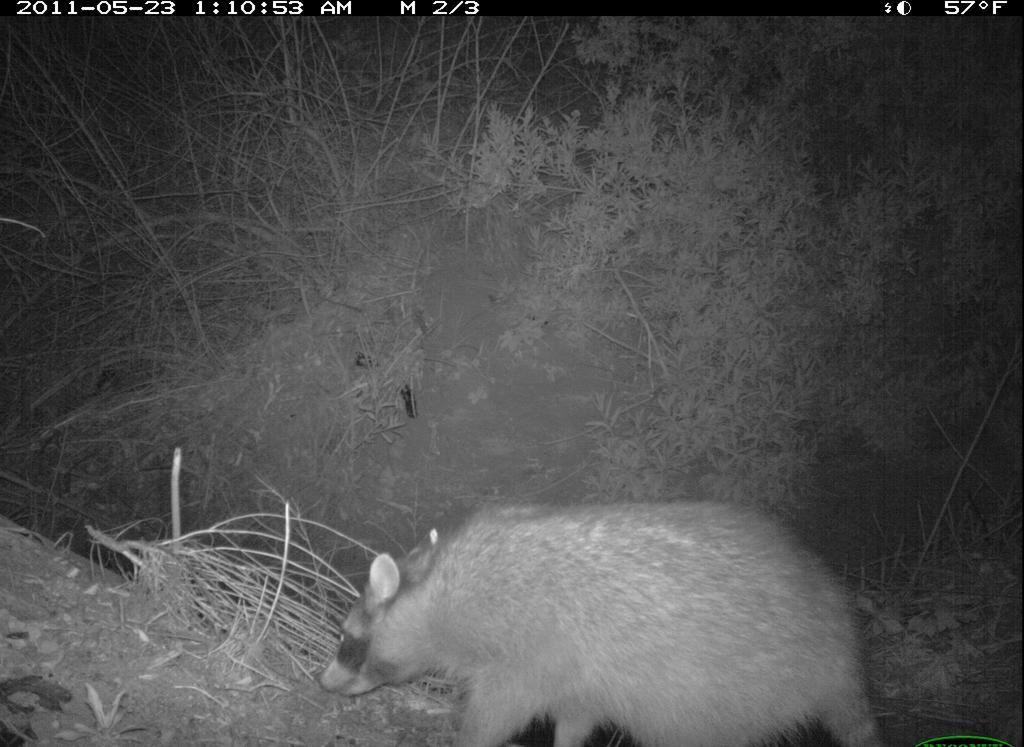raccoon: (308, 488, 881, 745)
